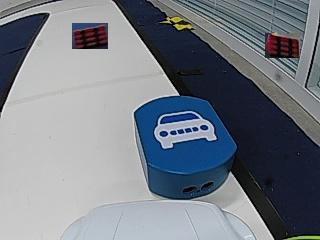safety: (154, 111, 218, 148)
